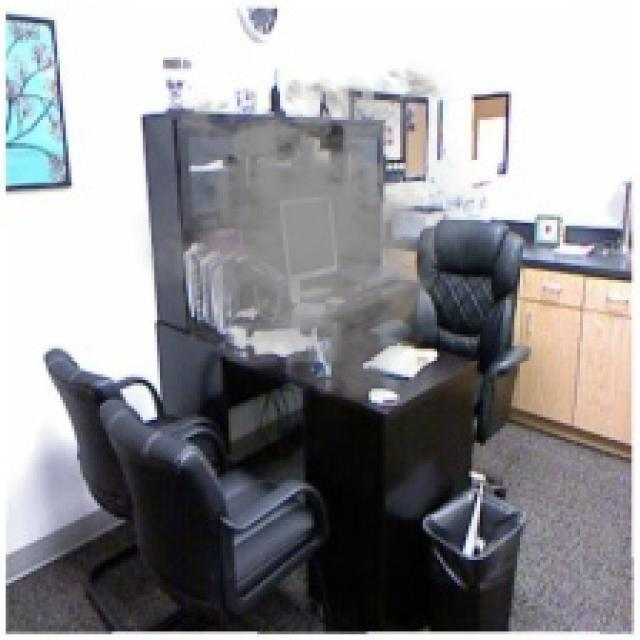Smoke: (122, 57, 494, 406)
